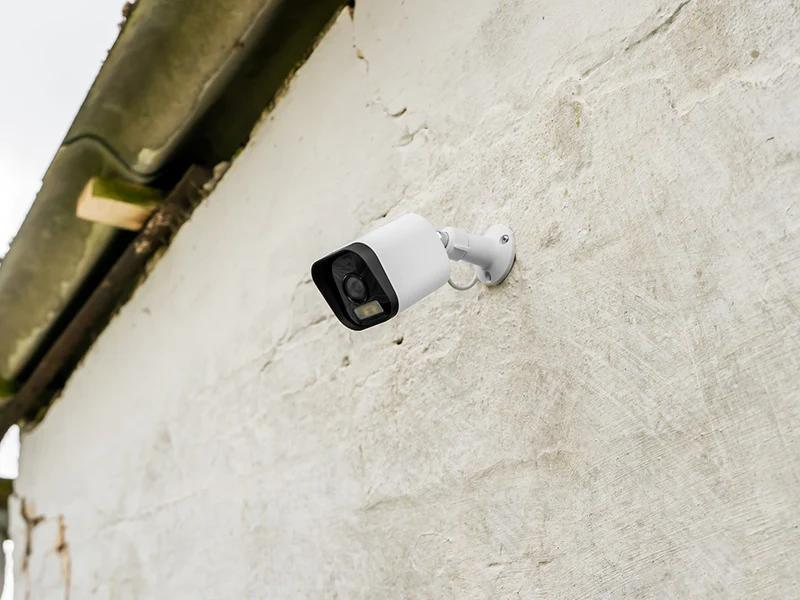camera: (267, 189, 477, 364)
